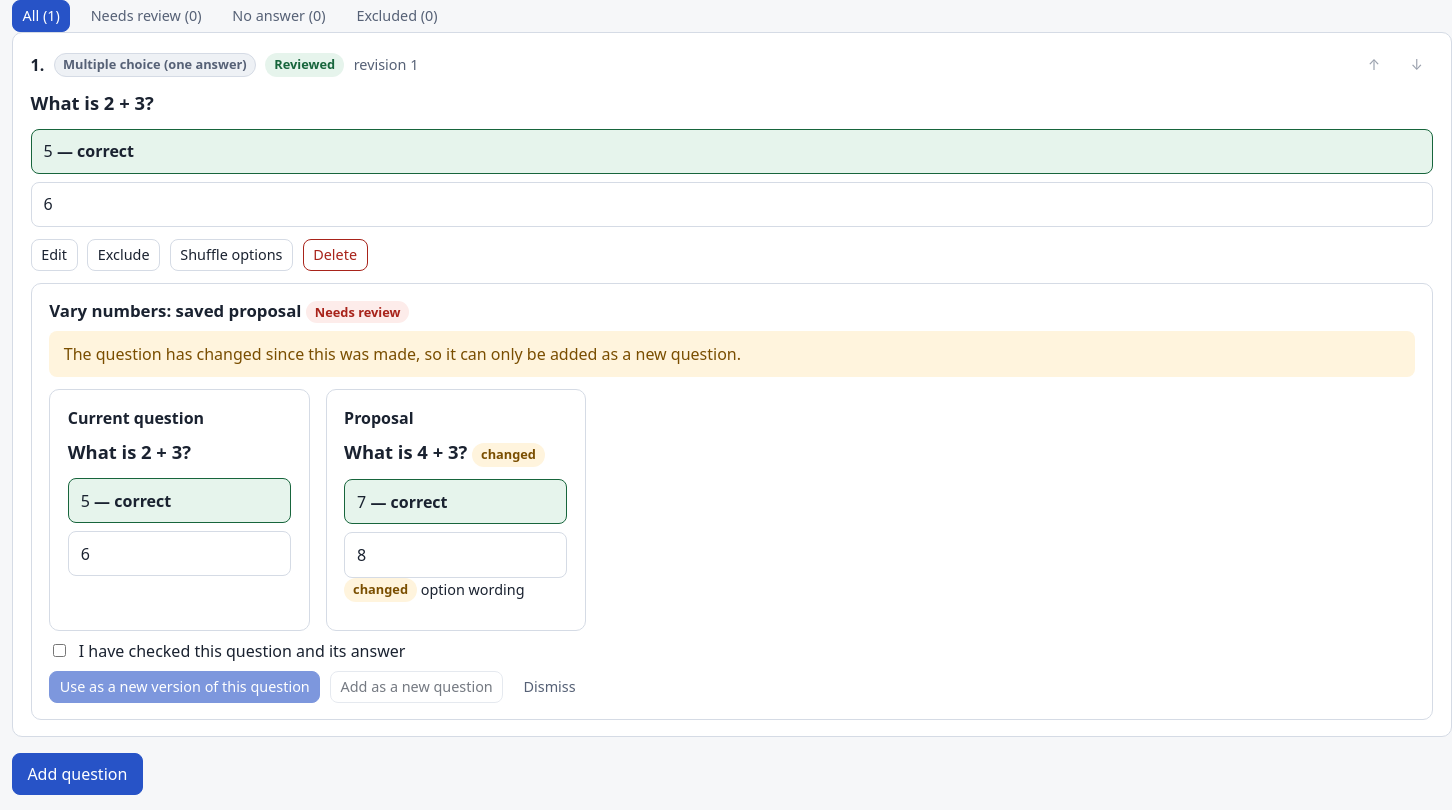
Test: saved rewrite proposals › only allows a new question when the proposal is out of date
Click the checkbox labelled "I have checked this question and its answer" at (60, 651), box top-left (53, 644), bottom-right (66, 657)
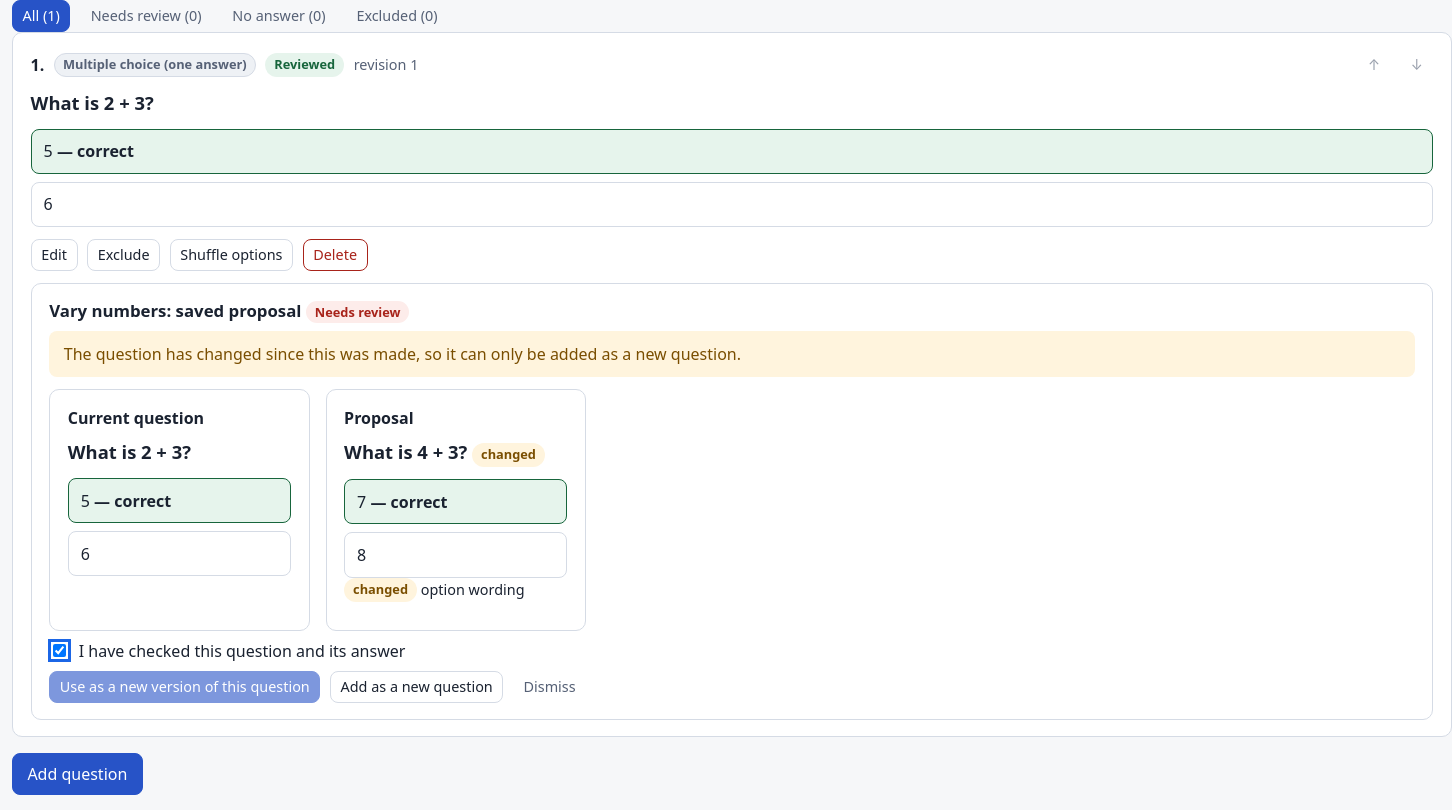
Expected: the button "Use as a new version of this question" is disabled, top-left (49, 671), bottom-right (320, 703)
Result: the button "Add as a new question" is enabled at top-left (330, 671), bottom-right (503, 703)
